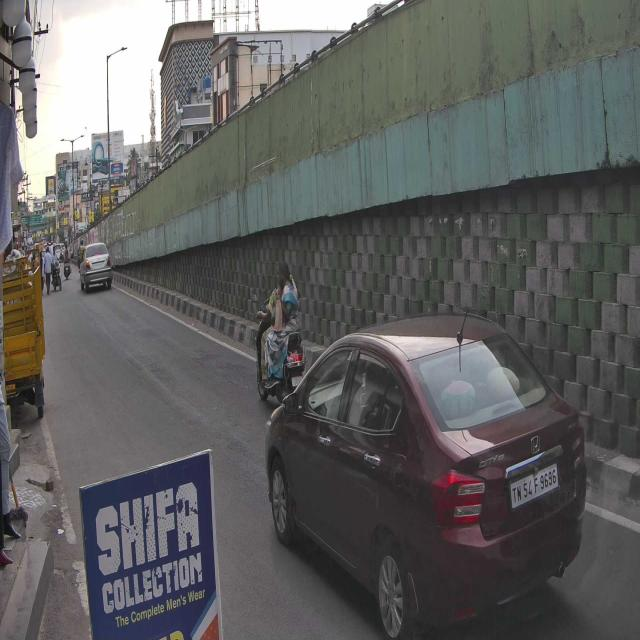double_rider: (252, 259, 307, 402)
